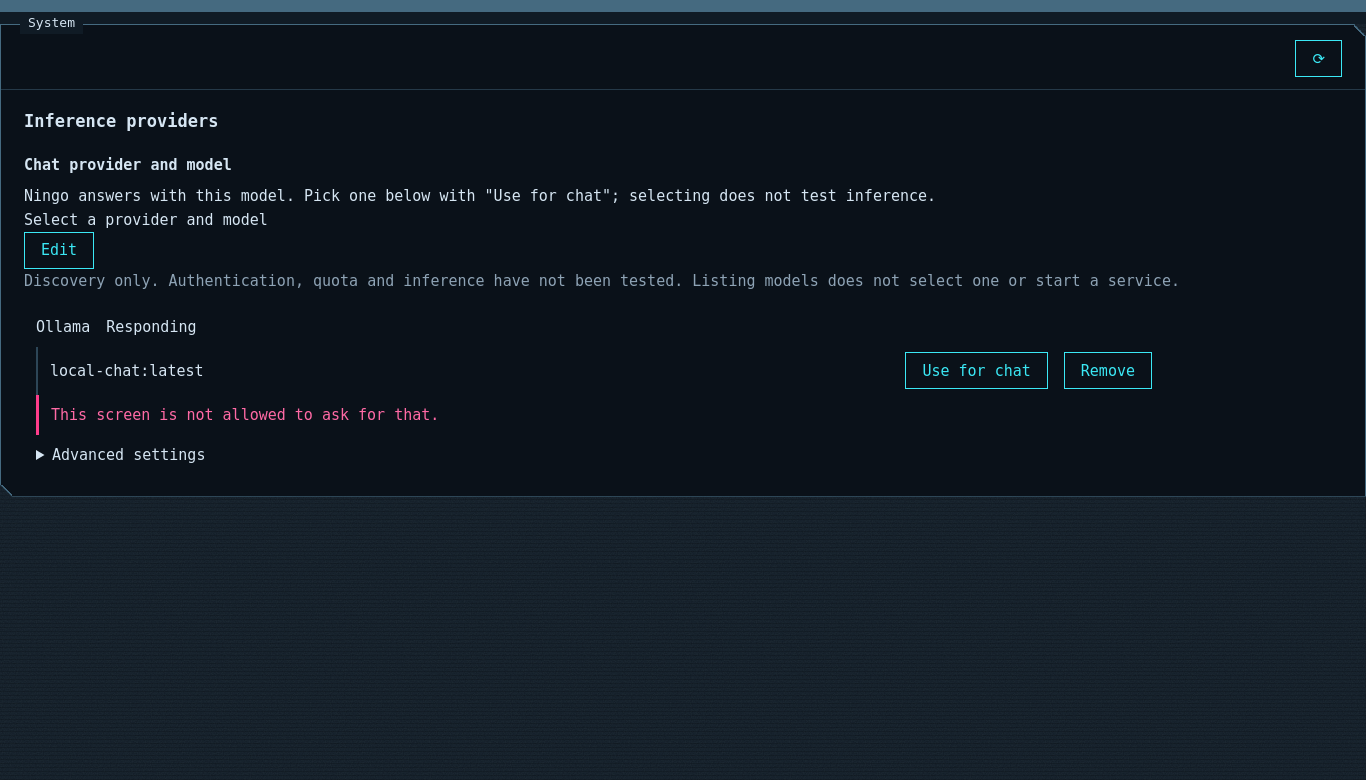
Scenario: uses a found model for chat in one press: declares it, reads the revision again, then selects it
Click the button with aria-label "Use local-chat:latest of Ollama for chat" at (977, 371), box [905,352,1048,389]
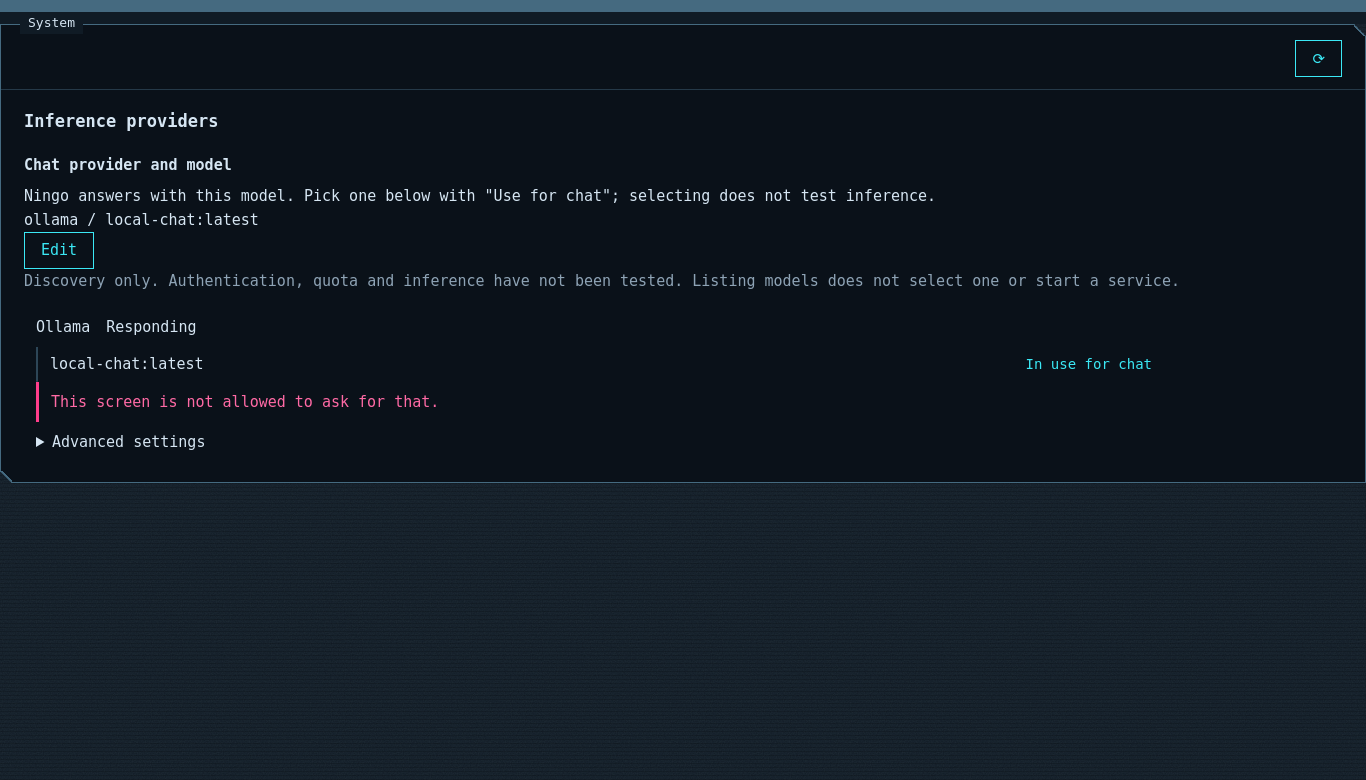
Expected: the text "In use for chat" is shown, [1026,353,1152,375]
